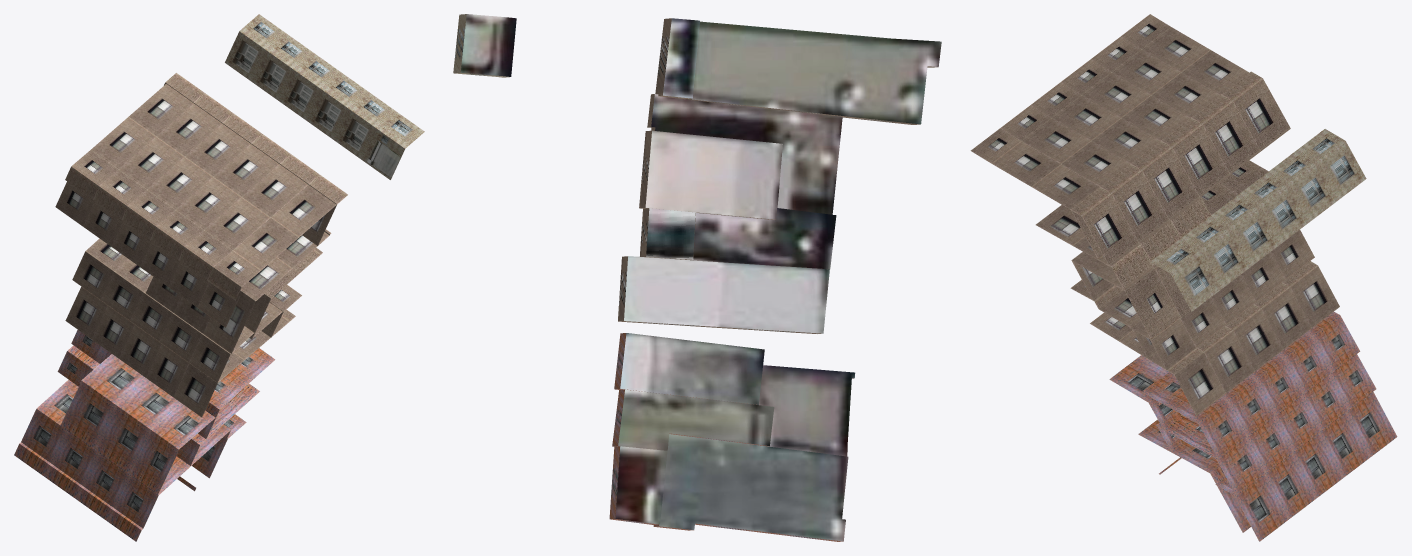
3 renders of one model, left to right at view 1: azimuth 30°, elevation 25°; view 2: azimuth 150°, elevation 25°; view 3: azimuth 270°, elevation 25°, orthographic. The views are drawn at different scales.
Size of the model in its own units: 39.37 by 43.07 by 36.53.
32 materials, 32 textured.
